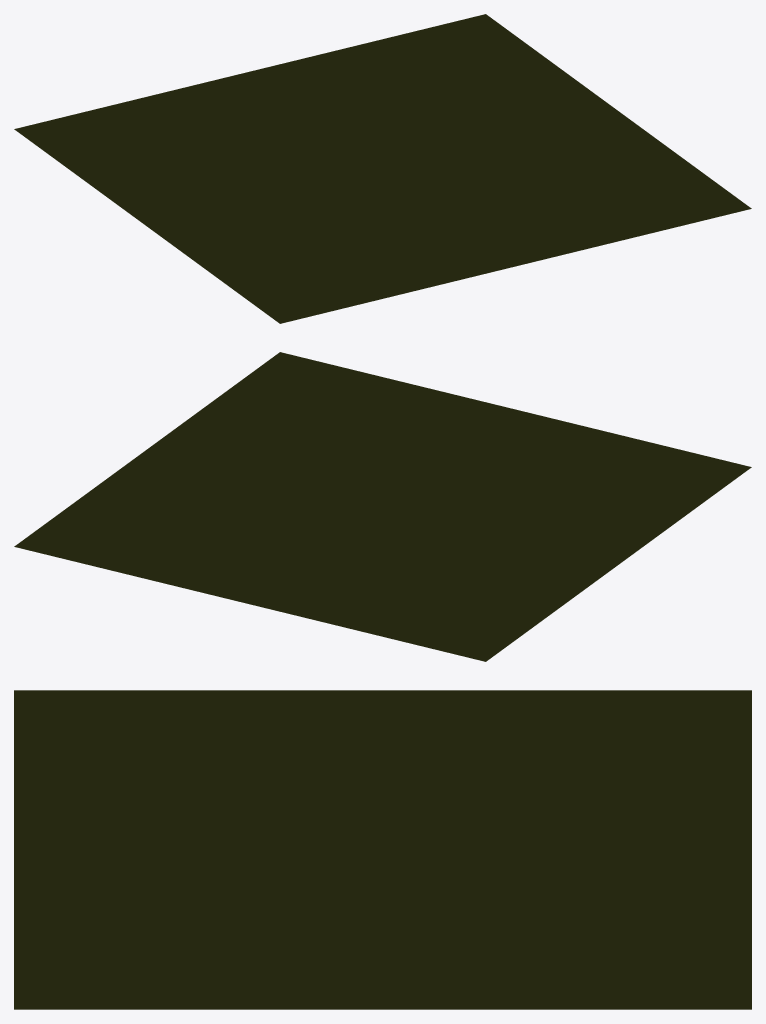
File: plane001_ground_0_lev1.glb
3 renders of one model, top to bottom at view 1: azimuth 30°, elevation 25°; view 2: azimuth 150°, elevation 25°; view 3: azimuth 270°, elevation 25°, orthographic. The views are drawn at different scales.
Parts seen in each view (by area): view 1: plane001_ground_0_lev1; view 2: plane001_ground_0_lev1; view 3: plane001_ground_0_lev1.
Part boxes in pixels (x1,y1,x2,y2): plane001_ground_0_lev1: (14,14,751,323); plane001_ground_0_lev1: (14,352,751,661); plane001_ground_0_lev1: (14,690,751,1009).
Bounding box in the file's own units: 10.46 × 4.57e-07 × 10.22.
